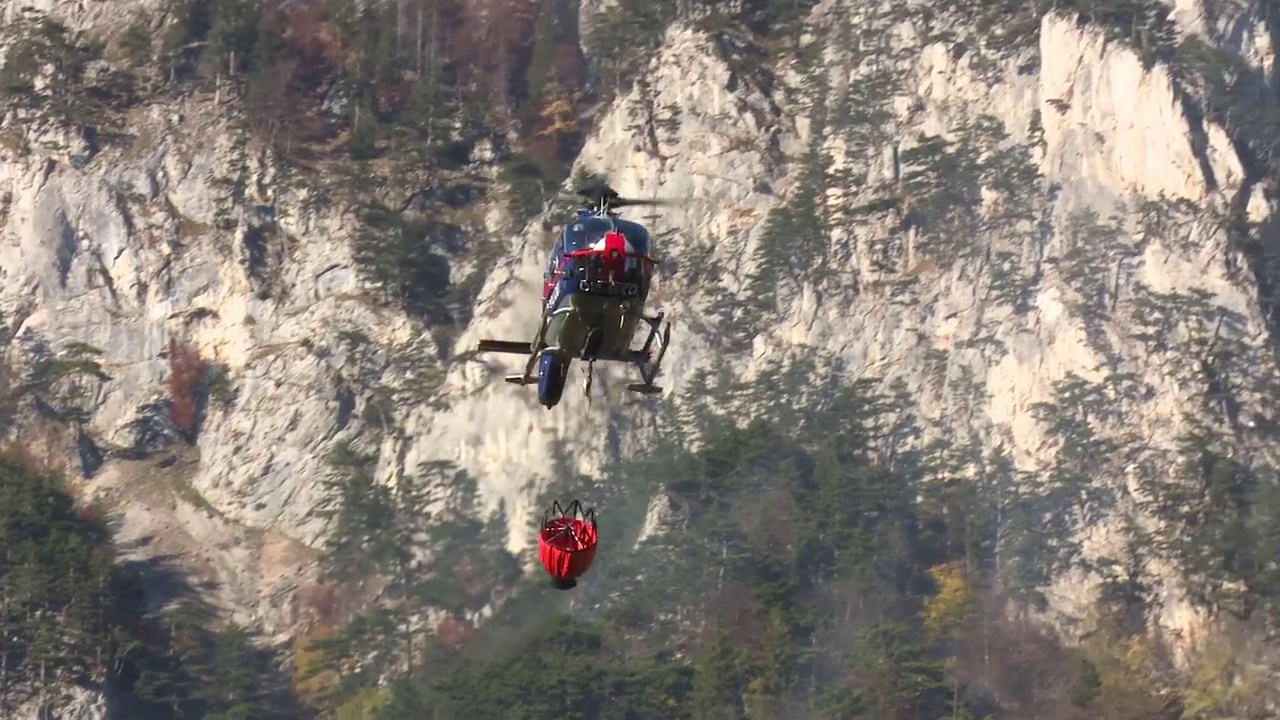heli: (478, 183, 672, 410)
